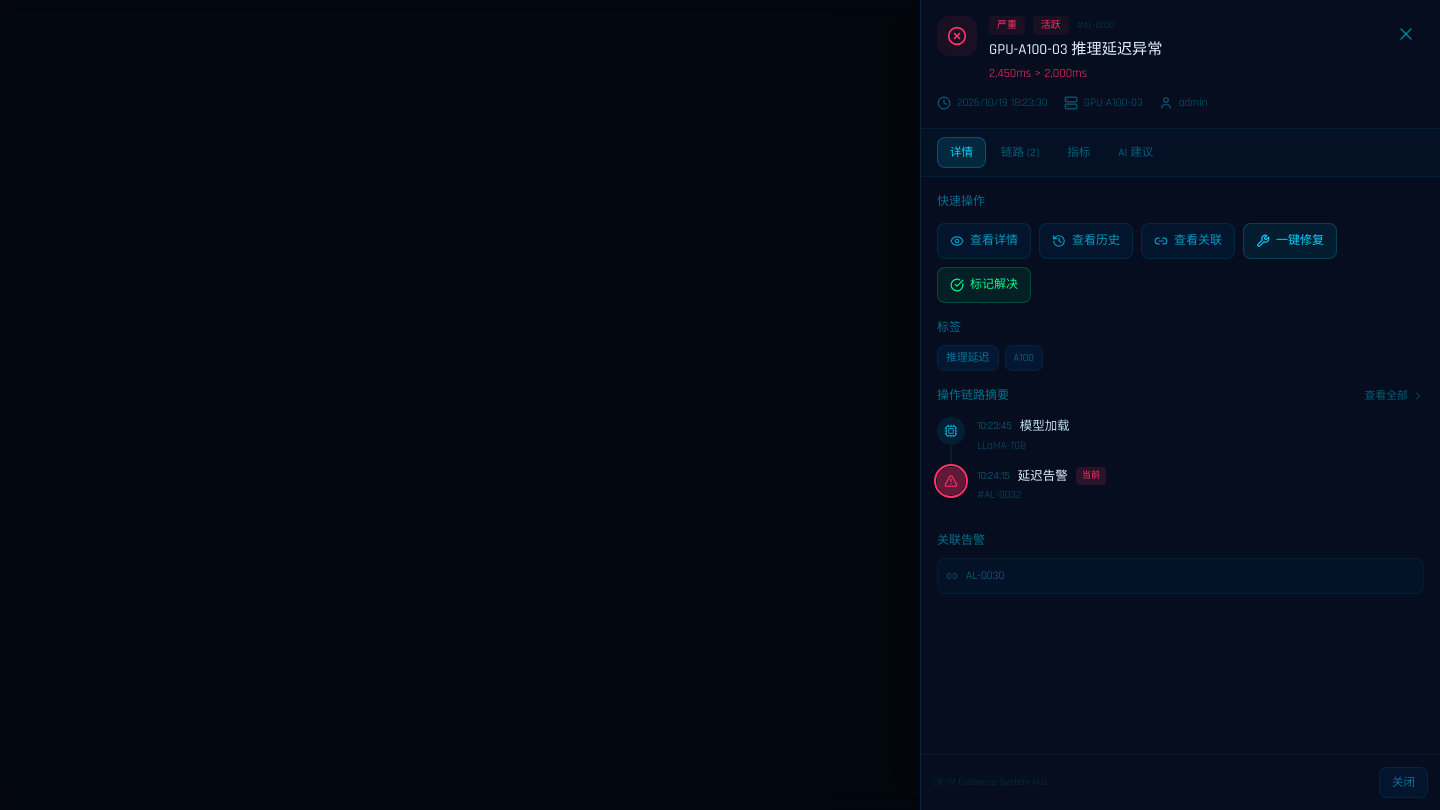
it: FollowUpDrawer › Tab 栏 › 切换到 AI 建议 tab 应加载建议
Click the button "AI 建议" at (1136, 152), box 1105,137 -> 1166,168
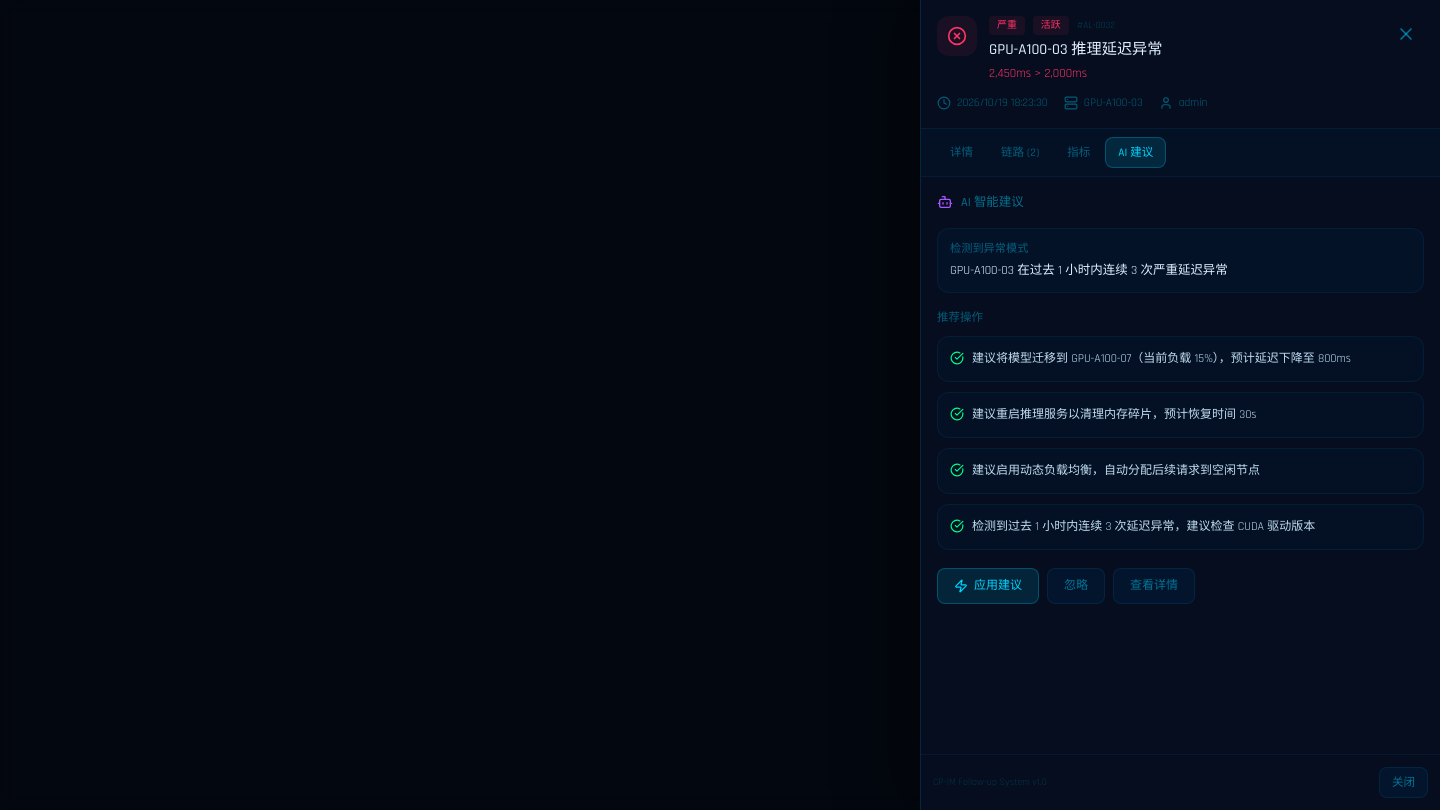
Expected: the heading "AI 智能建议" is shown, 961,193 -> 1024,212
Expected: the text "推荐操作" is shown, 937,310 -> 983,325
